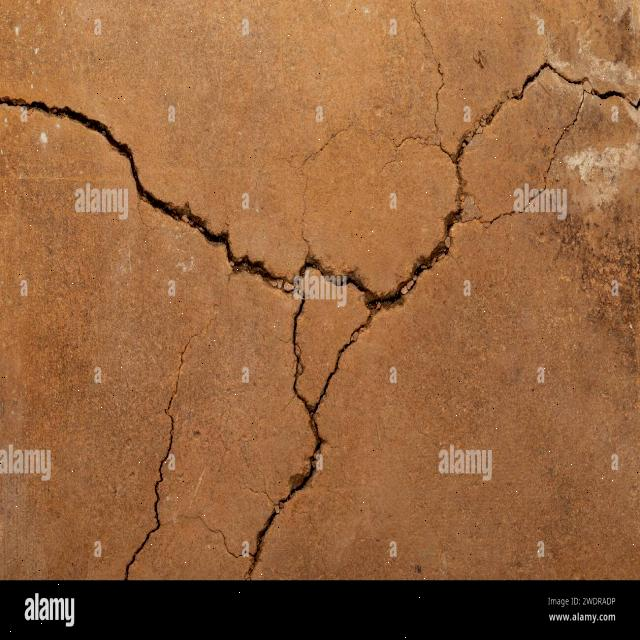crack: (10, 98, 403, 307), (125, 336, 190, 580), (406, 4, 457, 164), (519, 62, 634, 127), (539, 80, 589, 189), (288, 286, 312, 421), (408, 0, 436, 81)
dampens: (5, 97, 147, 181), (453, 73, 533, 164), (242, 493, 293, 571), (300, 119, 364, 173), (2, 94, 64, 124), (503, 65, 547, 107), (542, 65, 593, 94)
